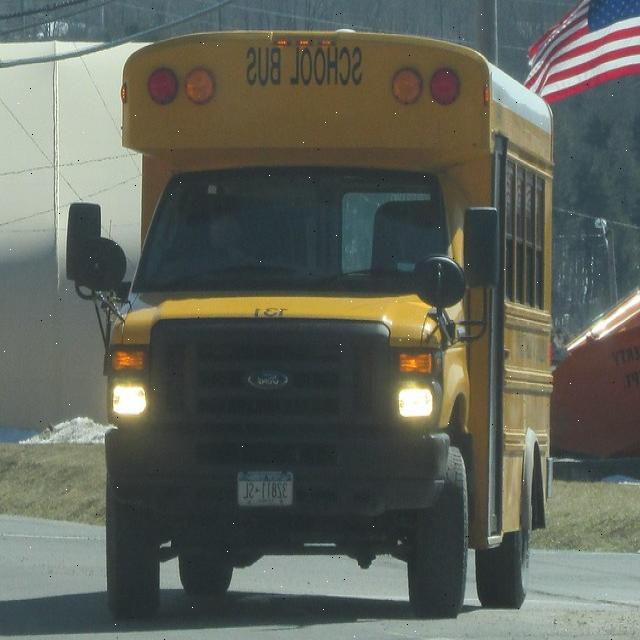Bus: (73, 29, 554, 611), (555, 290, 639, 454), (526, 0, 639, 101)
